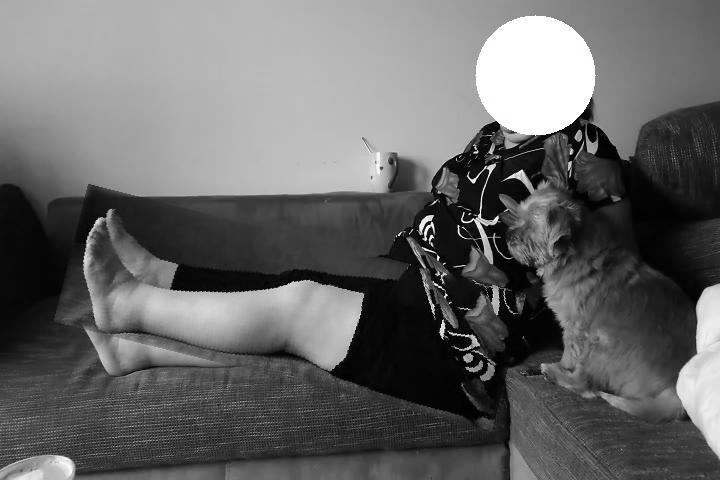lower_body: (60, 211, 522, 406)
